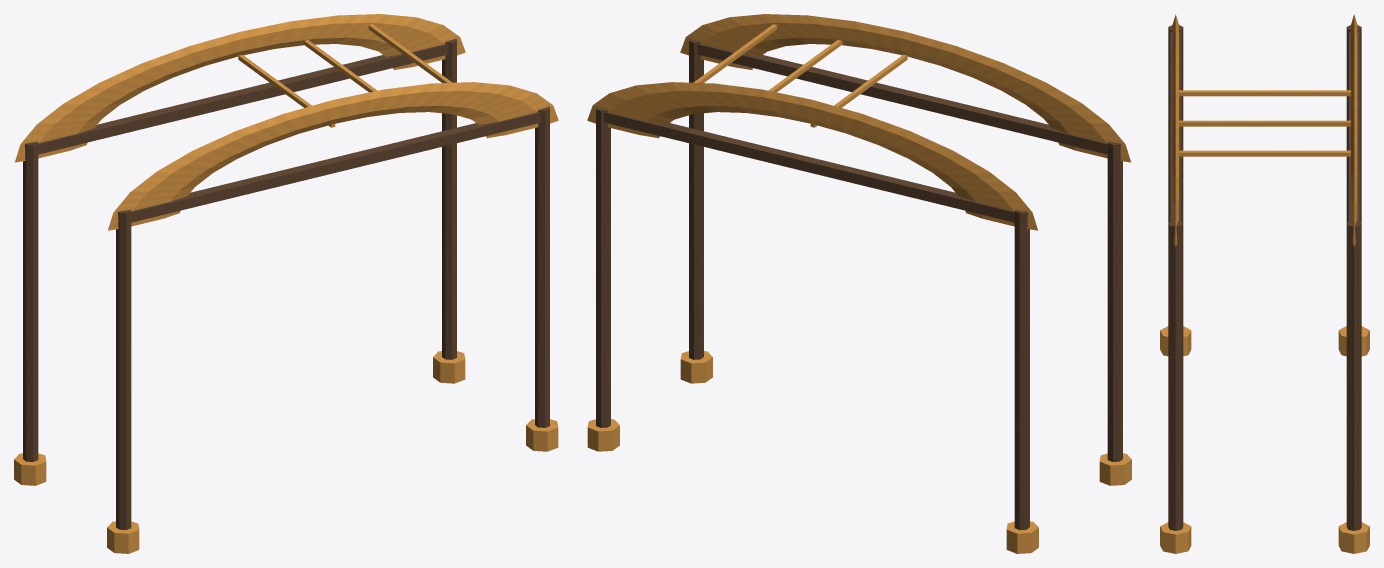
File: atlas100-s011-a08.lod1.glb
3 renders of one model, left to right at view 1: azimuth 30°, elevation 25°; view 2: azimuth 150°, elevation 25°; view 3: azimuth 270°, elevation 25°, orthographic. The views are drawn at different scales.
Parts seen in each view (by area): view 1: atlas100-s011-a08:part-011, atlas100-s011-a08:part-010, atlas100-s011-a08:part-009, atlas100-s011-a08:part-008, atlas100-s011-a08:part-000, atlas100-s011-a08:part-002, atlas100-s011-a08:part-006, atlas100-s011-a08:part-004, atlas100-s011-a08:part-005, atlas100-s011-a08:part-007, atlas100-s011-a08:part-001, atlas100-s011-a08:part-003 (+1 smaller); view 2: atlas100-s011-a08:part-010, atlas100-s011-a08:part-011, atlas100-s011-a08:part-008, atlas100-s011-a08:part-009, atlas100-s011-a08:part-002, atlas100-s011-a08:part-000, atlas100-s011-a08:part-004, atlas100-s011-a08:part-006, atlas100-s011-a08:part-005, atlas100-s011-a08:part-007, atlas100-s011-a08:part-003, atlas100-s011-a08:part-001 (+1 smaller); view 3: atlas100-s011-a08:part-004, atlas100-s011-a08:part-006, atlas100-s011-a08:part-010, atlas100-s011-a08:part-011, atlas100-s011-a08:part-014, atlas100-s011-a08:part-015, atlas100-s011-a08:part-016, atlas100-s011-a08:part-000, atlas100-s011-a08:part-002, atlas100-s011-a08:part-008, atlas100-s011-a08:part-009, atlas100-s011-a08:part-005 (+3 smaller).
Boxes of the visible parts, <box> form: atlas100-s011-a08:part-011: <box>108,82,558,230</box>; atlas100-s011-a08:part-010: <box>15,14,465,162</box>; atlas100-s011-a08:part-009: <box>131,112,541,222</box>; atlas100-s011-a08:part-008: <box>38,44,448,154</box>; atlas100-s011-a08:part-000: <box>23,141,38,461</box>; atlas100-s011-a08:part-002: <box>116,209,131,529</box>; atlas100-s011-a08:part-006: <box>535,106,549,427</box>; atlas100-s011-a08:part-004: <box>442,38,456,359</box>; atlas100-s011-a08:part-005: <box>433,351,465,383</box>; atlas100-s011-a08:part-007: <box>526,419,558,451</box>; atlas100-s011-a08:part-001: <box>14,453,46,485</box>; atlas100-s011-a08:part-003: <box>107,521,139,553</box>; atlas100-s011-a08:part-010: <box>587,82,1037,230</box>; atlas100-s011-a08:part-011: <box>680,14,1130,162</box>; atlas100-s011-a08:part-008: <box>604,112,1014,222</box>; atlas100-s011-a08:part-009: <box>697,44,1107,154</box>; atlas100-s011-a08:part-002: <box>1107,141,1122,461</box>; atlas100-s011-a08:part-000: <box>1014,209,1029,529</box>; atlas100-s011-a08:part-004: <box>596,106,610,427</box>; atlas100-s011-a08:part-006: <box>689,38,703,359</box>; atlas100-s011-a08:part-005: <box>587,419,619,451</box>; atlas100-s011-a08:part-007: <box>680,351,712,383</box>; atlas100-s011-a08:part-003: <box>1099,453,1131,485</box>; atlas100-s011-a08:part-001: <box>1006,521,1038,553</box>; atlas100-s011-a08:part-004: <box>1346,221,1361,530</box>; atlas100-s011-a08:part-006: <box>1168,221,1183,530</box>; atlas100-s011-a08:part-010: <box>1351,14,1357,246</box>; atlas100-s011-a08:part-011: <box>1172,14,1178,246</box>; atlas100-s011-a08:part-014: <box>1179,90,1350,96</box>; atlas100-s011-a08:part-015: <box>1179,120,1350,126</box>; atlas100-s011-a08:part-016: <box>1179,150,1350,156</box>; atlas100-s011-a08:part-000: <box>1346,25,1361,222</box>; atlas100-s011-a08:part-002: <box>1168,25,1183,222</box>; atlas100-s011-a08:part-008: <box>1349,31,1359,221</box>; atlas100-s011-a08:part-009: <box>1170,31,1180,221</box>; atlas100-s011-a08:part-005: <box>1338,522,1369,553</box>.
Bounding box in the file's own units: 5.6 × 4.7 × 2.35.
2 materials, 2 textured.
